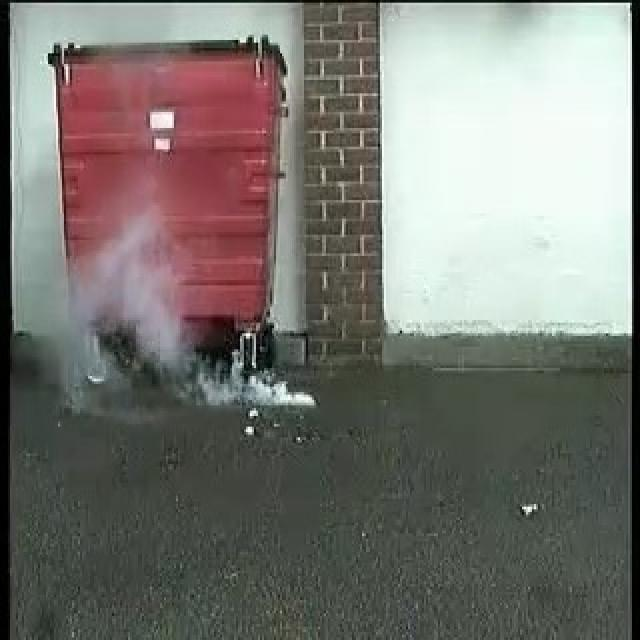smoke: (62, 208, 317, 412)
